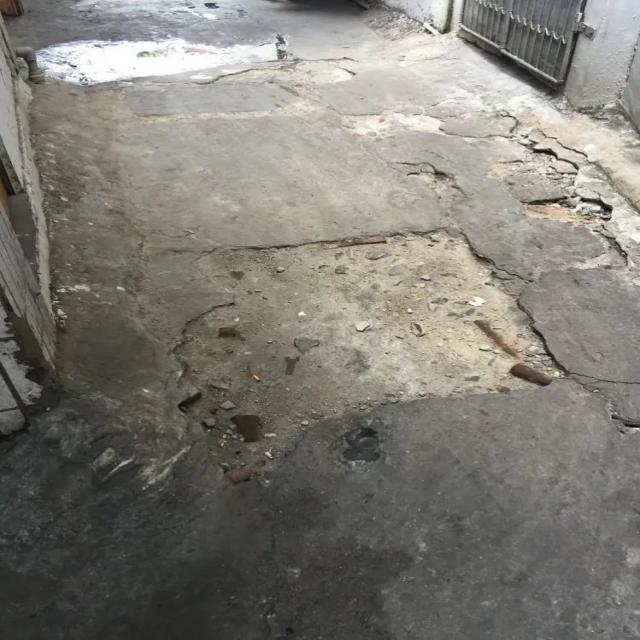Pothole: (162, 228, 584, 482), (470, 122, 632, 275), (27, 38, 299, 90)
